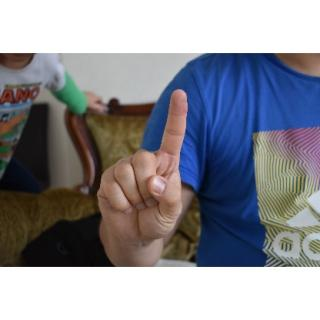BAA: (94, 84, 192, 243)
